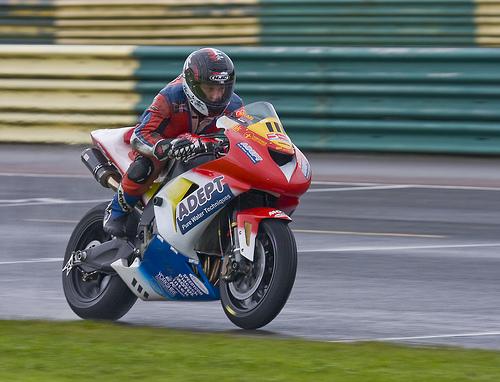helmet: (183, 50, 232, 106)
